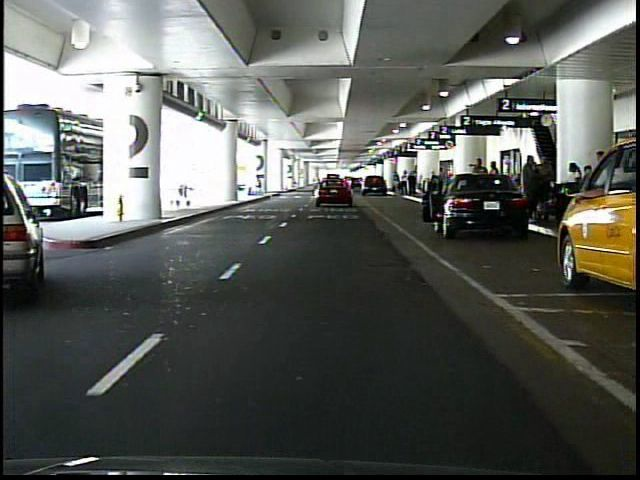person: (521, 156, 544, 222), (471, 156, 490, 211), (488, 159, 504, 211), (402, 169, 411, 197), (410, 172, 419, 198), (395, 175, 403, 195), (544, 151, 545, 221)
